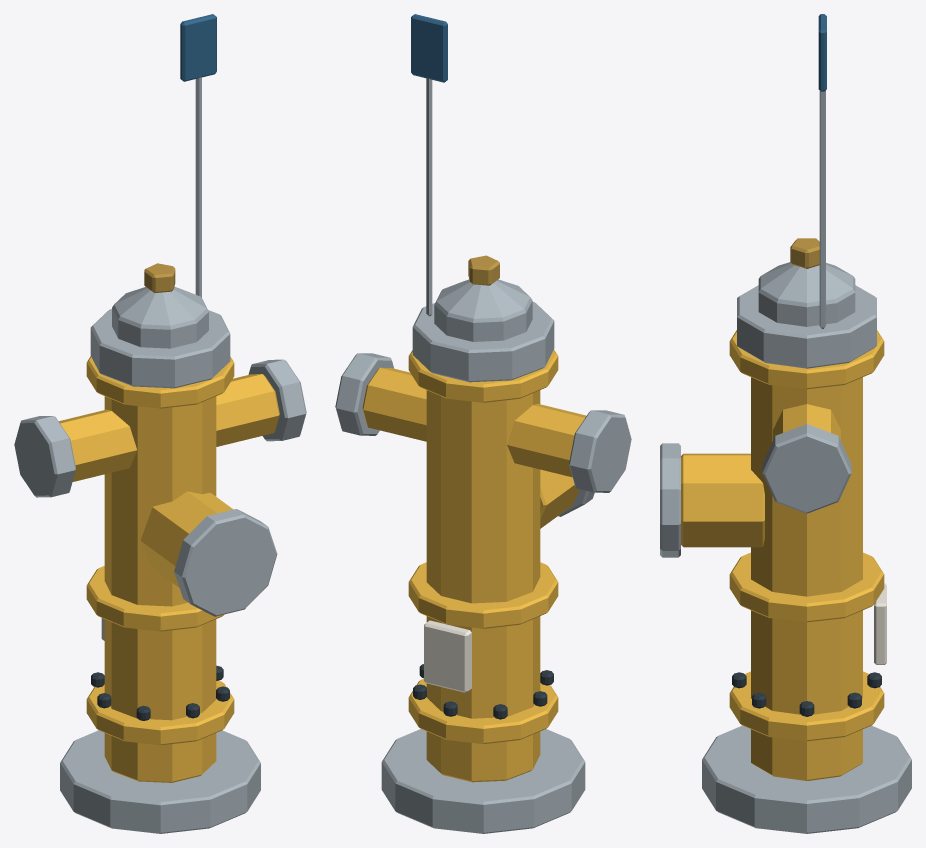
File: b05_breakaway_barrel_hydrant.glb
The picture shows the model from 3 angles, left to right: view 1: azimuth 30°, elevation 25°; view 2: azimuth 150°, elevation 25°; view 3: azimuth 270°, elevation 25°; orthographic projection. The views are drawn at different scales.
Parts seen in each view (by area): view 1: b05_breakaway_barrel_hydrant; view 2: b05_breakaway_barrel_hydrant; view 3: b05_breakaway_barrel_hydrant.
Boxes of the visible parts, bbox=[...] form: b05_breakaway_barrel_hydrant: bbox=[14, 14, 306, 833]; b05_breakaway_barrel_hydrant: bbox=[335, 14, 631, 833]; b05_breakaway_barrel_hydrant: bbox=[660, 14, 911, 833].
Size of the model in its own units: 0.58 by 1.66 by 0.48.
